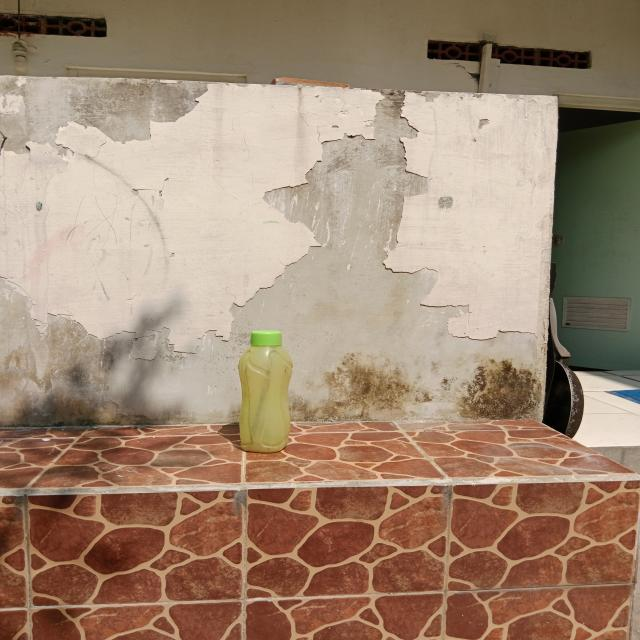botol_minum: (216, 318, 312, 468)
